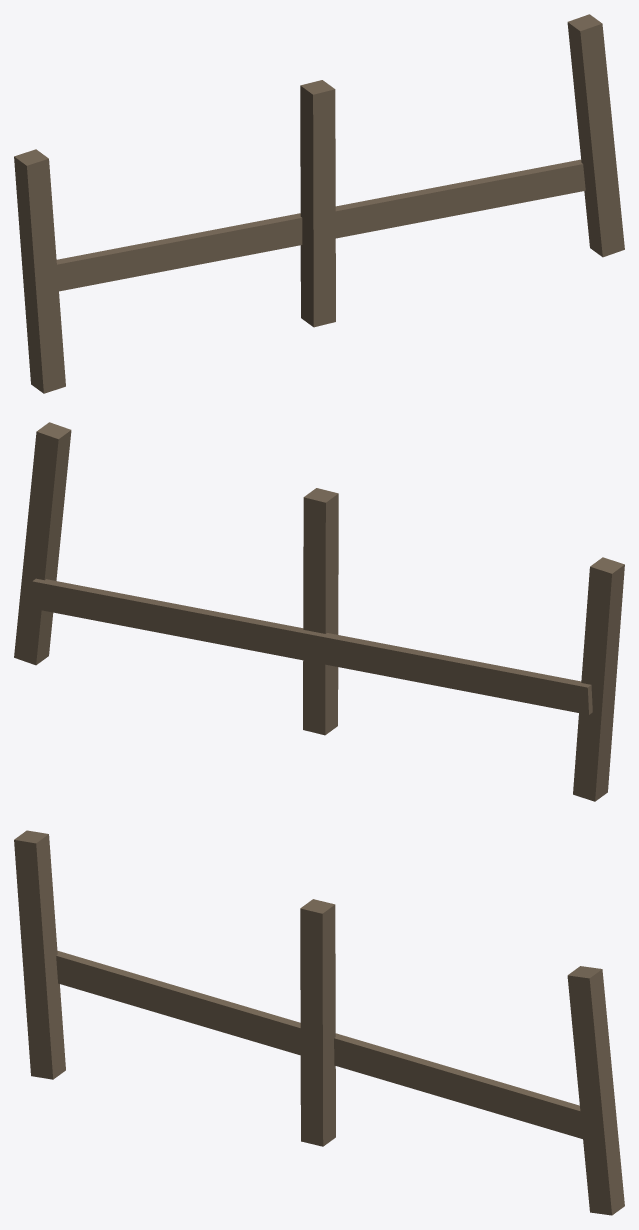
File: prop_fence.glb
3 renders of one model, top to bottom at view 1: azimuth 30°, elevation 25°; view 2: azimuth 150°, elevation 25°; view 3: azimuth 330°, elevation 25°, orthographic.
Parts seen in each view (by area): view 1: prop_fence; view 2: prop_fence; view 3: prop_fence.
Boxes of the visible parts, bbox=[...] form: prop_fence: bbox=[14, 14, 624, 393]; prop_fence: bbox=[14, 422, 624, 801]; prop_fence: bbox=[14, 830, 624, 1215].
Size of the model in its own units: 3.23 by 1.21 by 0.155.
